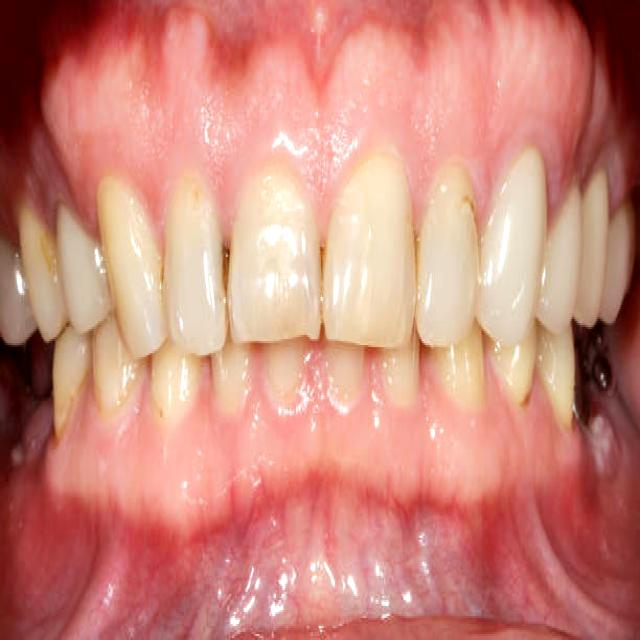gingivitis: (42, 0, 639, 233)
